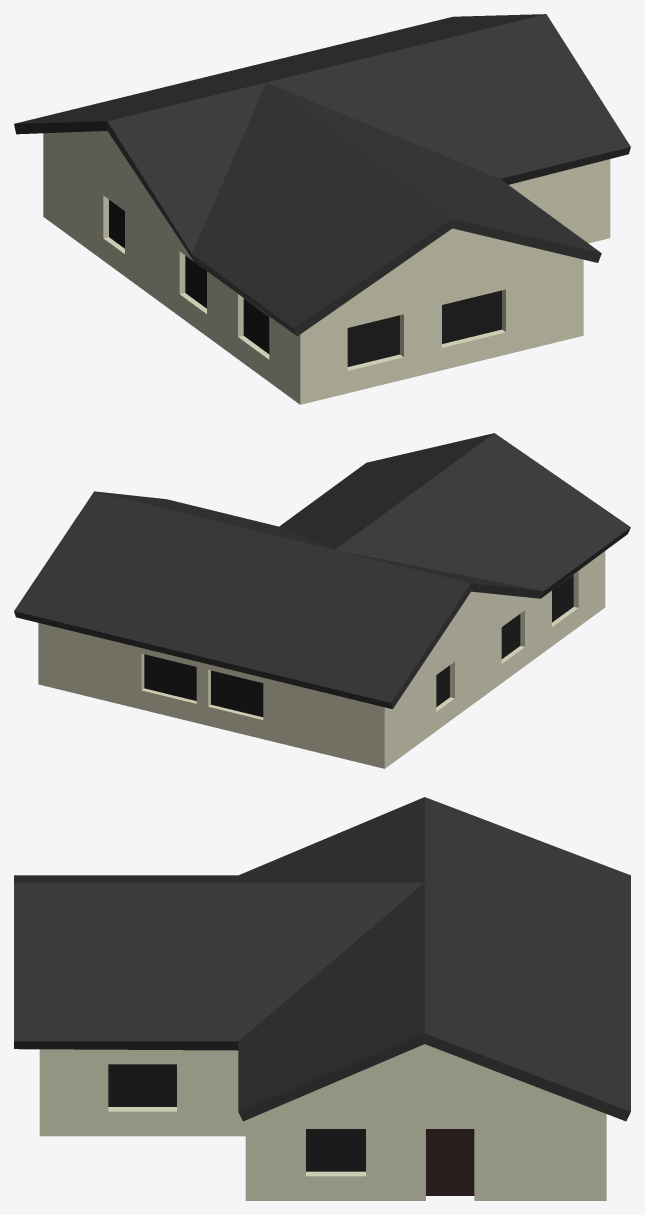
Rendered from house1.obj.
3 renders of one model, top to bottom at view 1: azimuth 30°, elevation 25°; view 2: azimuth 150°, elevation 25°; view 3: azimuth 270°, elevation 25°, orthographic. The views are drawn at different scales.
Parts seen in each view (by area): view 1: Plane; view 2: Plane; view 3: Plane.
Boxes of the visible parts, <box> form: Plane: <box>14,14,630,404</box>; Plane: <box>14,433,630,768</box>; Plane: <box>14,797,630,1200</box>.
Bounding box in the file's own units: 13.02 × 4.55 × 14.36.
Materials: 1 (1 with a texture image).
